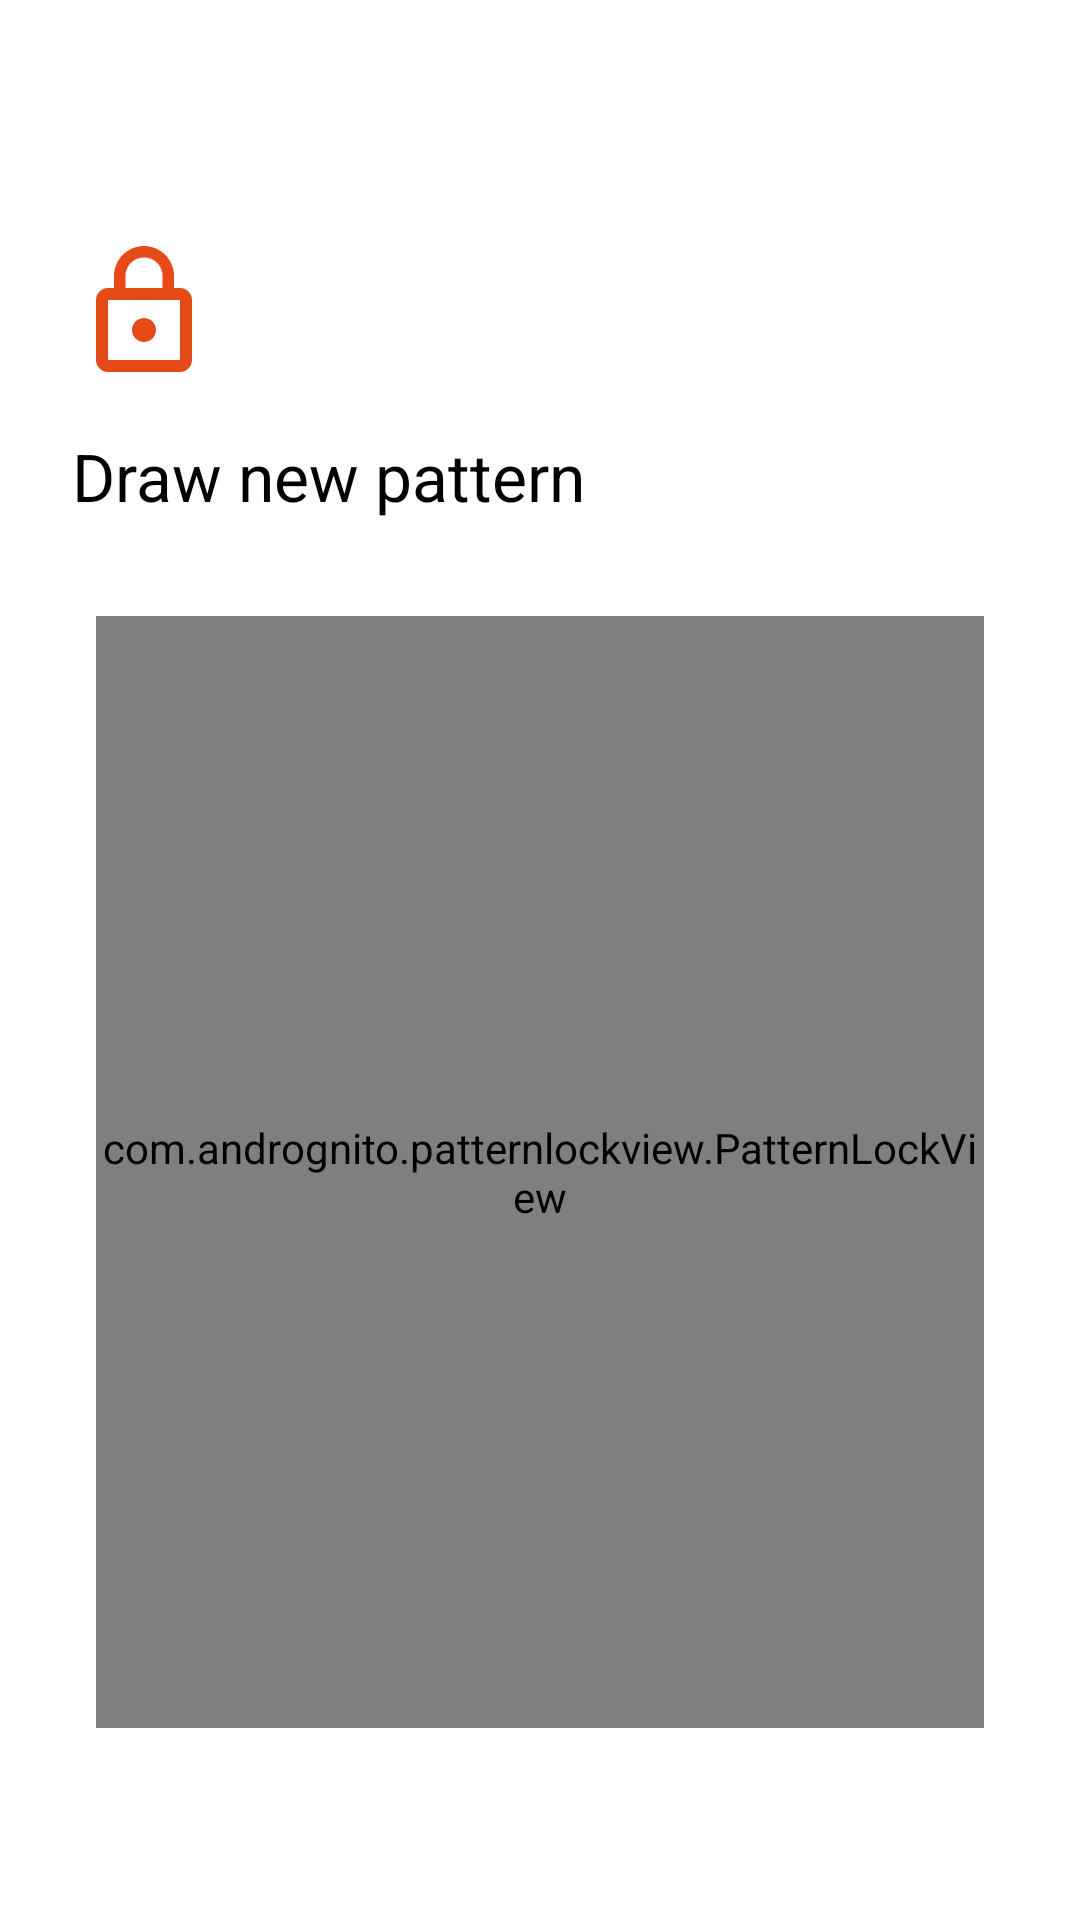

Where to tap for icons on this 1080×1920 app screen, as (x=x, y=y):
lock: (x=144, y=309)
